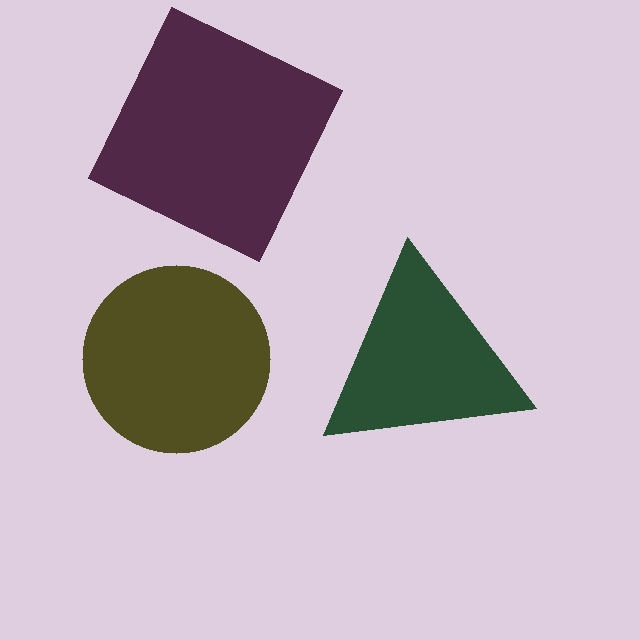circle: (82, 264, 270, 453)
square: (88, 6, 343, 262)
triangle: (323, 237, 537, 435)
